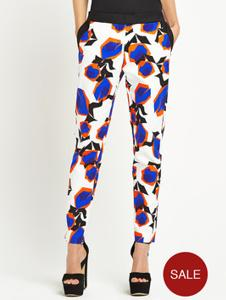C_W_pants: (64, 14, 175, 260)
C_sandals: (57, 238, 157, 298)
